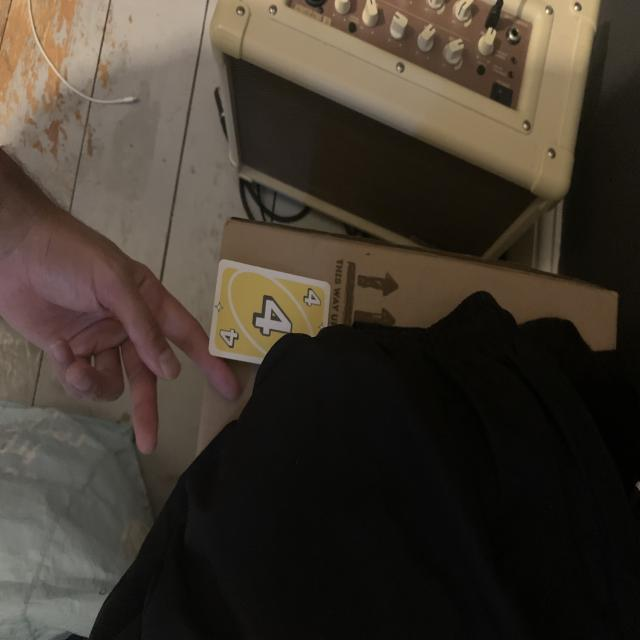lyellow-4: (216, 321, 243, 352)
